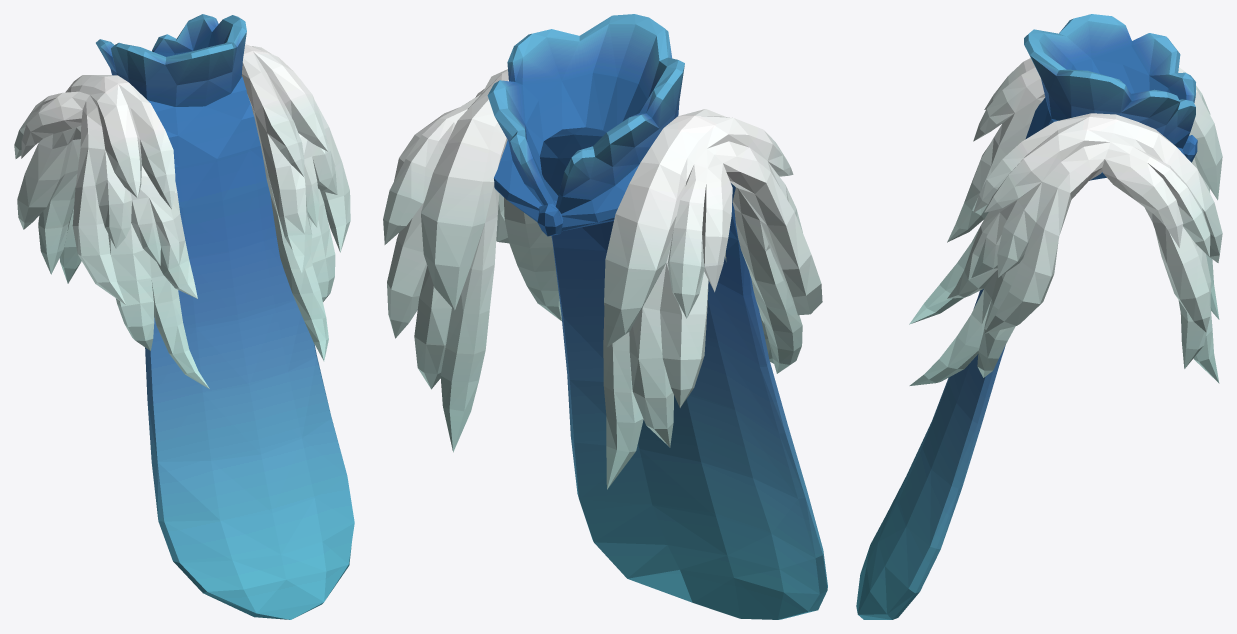
File: CharSkyKid_Wing_AP16Water.glb
3 views of the same model, side by side, from view 1: azimuth 30°, elevation 25°; view 2: azimuth 150°, elevation 25°; view 3: azimuth 270°, elevation 25° (orthographic). The views are drawn at different scales.
Visible parts, largest first — view 1: CharSkyKid_Wing_AP16Water; view 2: CharSkyKid_Wing_AP16Water; view 3: CharSkyKid_Wing_AP16Water.
Part boxes in pixels (left/top/right/bottom): CharSkyKid_Wing_AP16Water: left=14, top=14, right=354, bottom=619; CharSkyKid_Wing_AP16Water: left=383, top=14, right=827, bottom=619; CharSkyKid_Wing_AP16Water: left=856, top=14, right=1222, bottom=619.
Size of the model in its own units: 4.86 by 8.92 by 5.19.
Materials: 1 (1 with a texture image).
